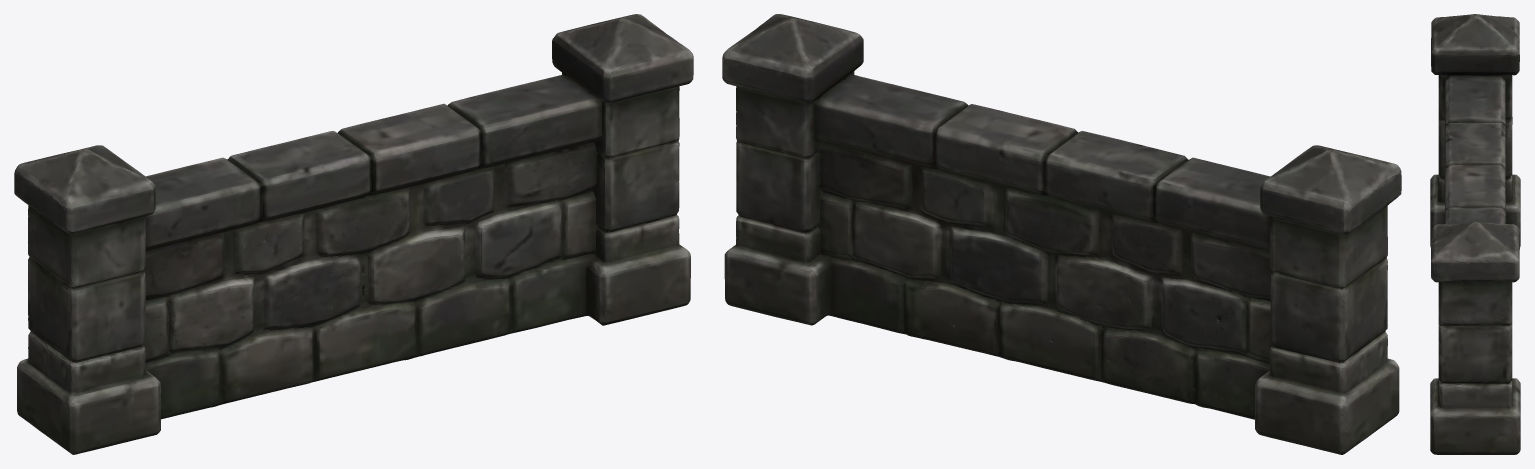
The model's file is war_wall_01.glb.
3 renders of one model, left to right at view 1: azimuth 30°, elevation 25°; view 2: azimuth 150°, elevation 25°; view 3: azimuth 270°, elevation 25°, orthographic. The views are drawn at different scales.
Visible parts, largest first — view 1: geometry_0; view 2: geometry_0; view 3: geometry_0.
Part boxes in pixels (bbox=[...]): geometry_0: bbox=[14, 14, 693, 454]; geometry_0: bbox=[722, 14, 1401, 454]; geometry_0: bbox=[1430, 14, 1520, 454].
Size of the model in its own units: 0.9999 by 0.4211 by 0.1582.
Materials: 1 (1 with a texture image).
